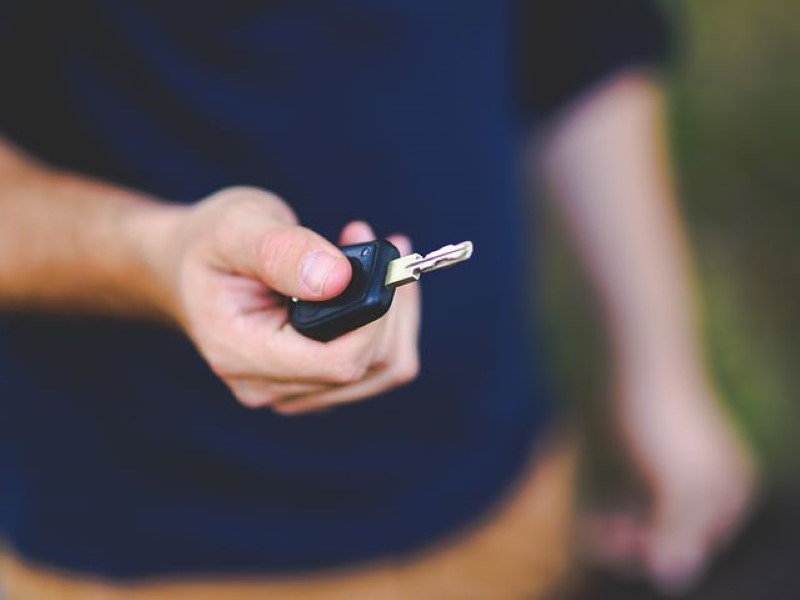carkey: (285, 225, 476, 345)
